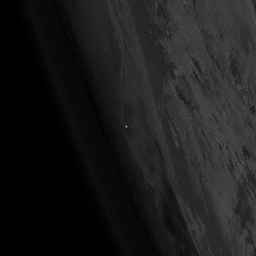Target: (124, 124, 129, 129)
